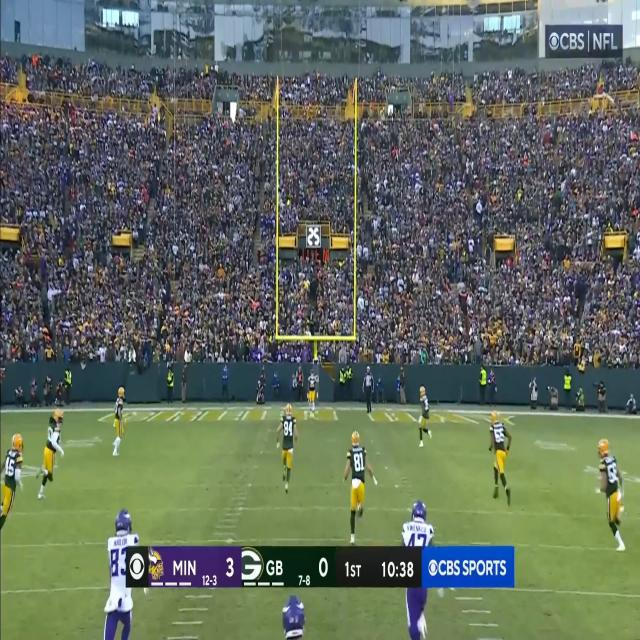players: (98, 504, 146, 640), (402, 499, 437, 640), (595, 443, 629, 554), (347, 430, 379, 545), (37, 411, 66, 504), (490, 407, 512, 509), (0, 432, 24, 525), (276, 406, 298, 500), (106, 386, 128, 462), (418, 387, 436, 452), (364, 365, 379, 420), (308, 359, 320, 416)
